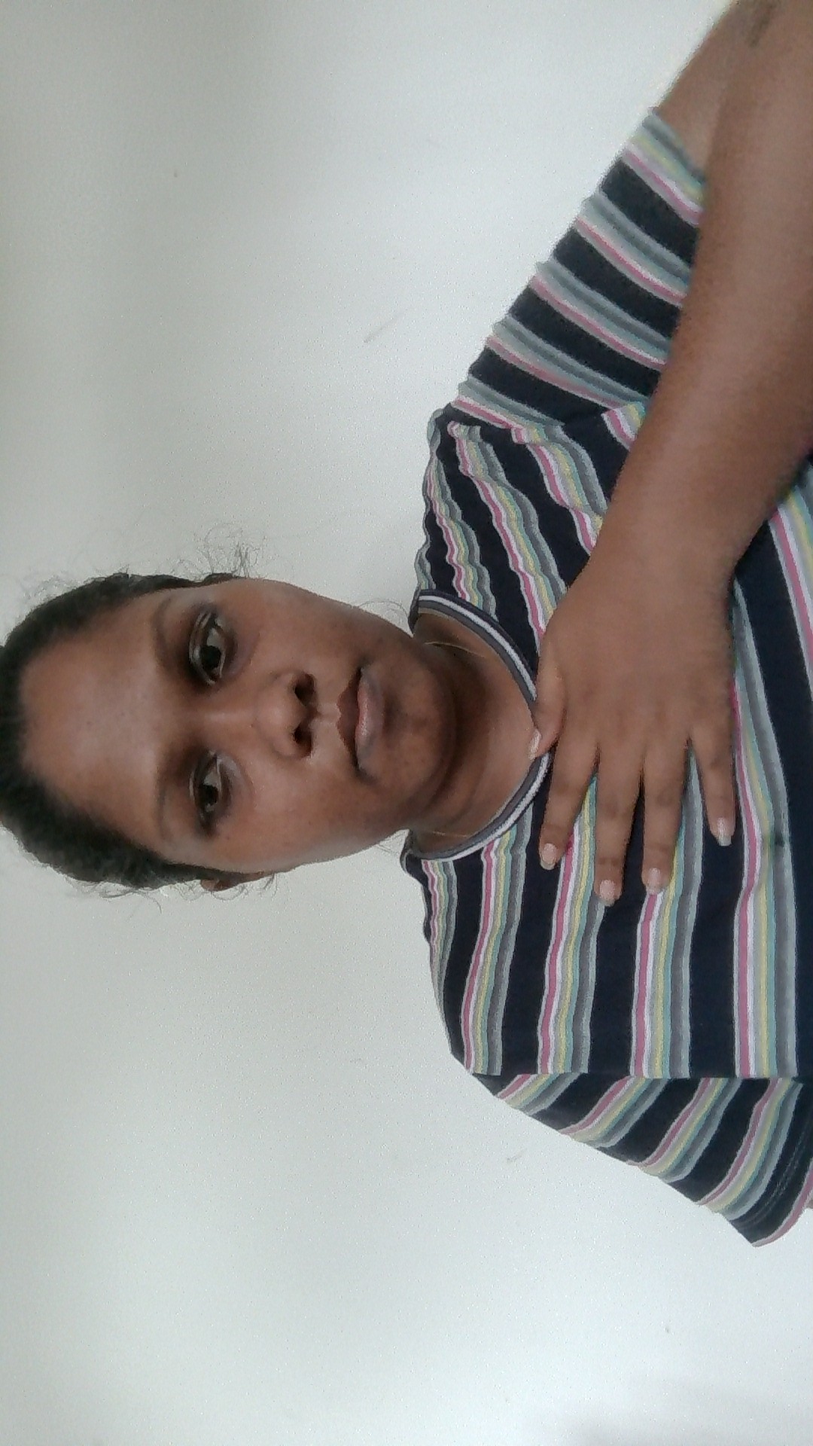Please: (482, 400, 800, 907)
